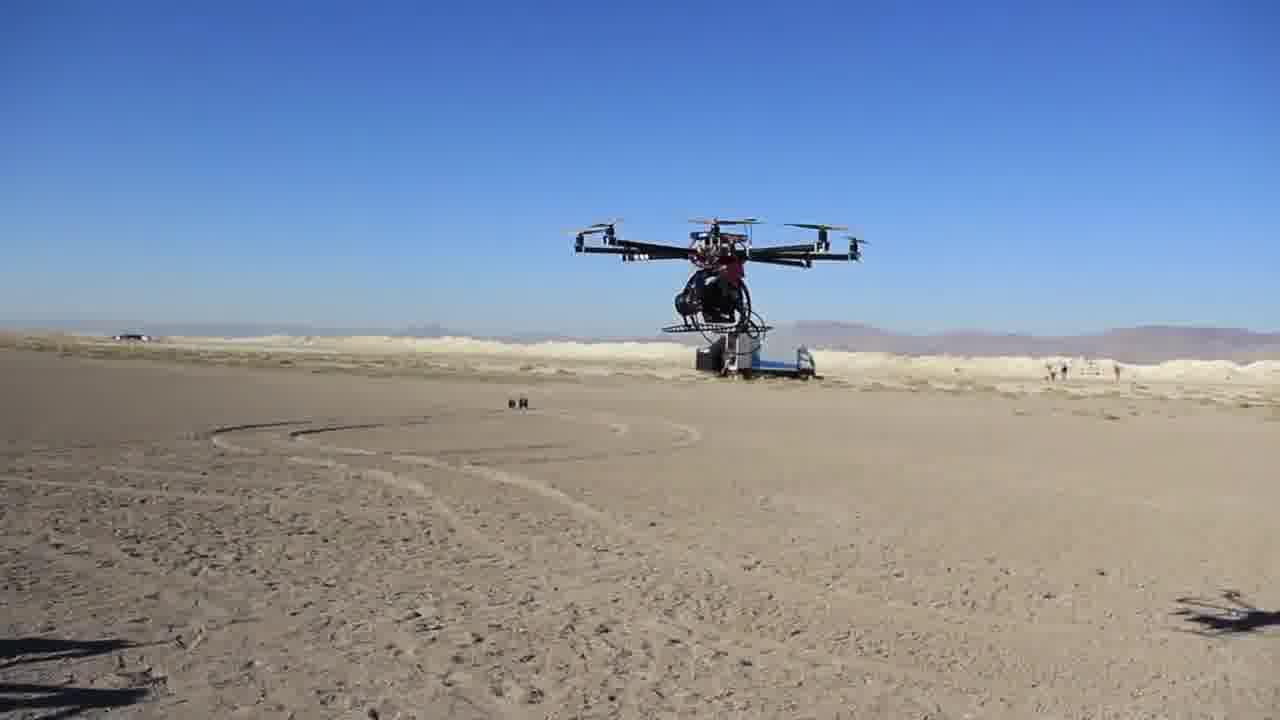drone: (561, 210, 858, 337)
